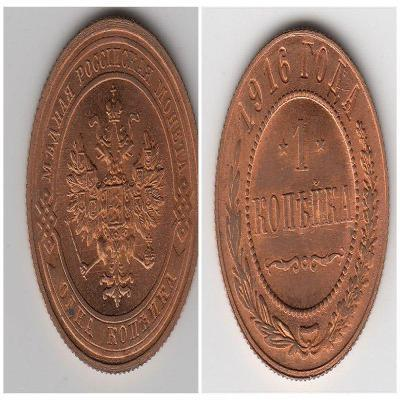numismatics: (214, 26, 392, 381), (25, 17, 200, 376)
